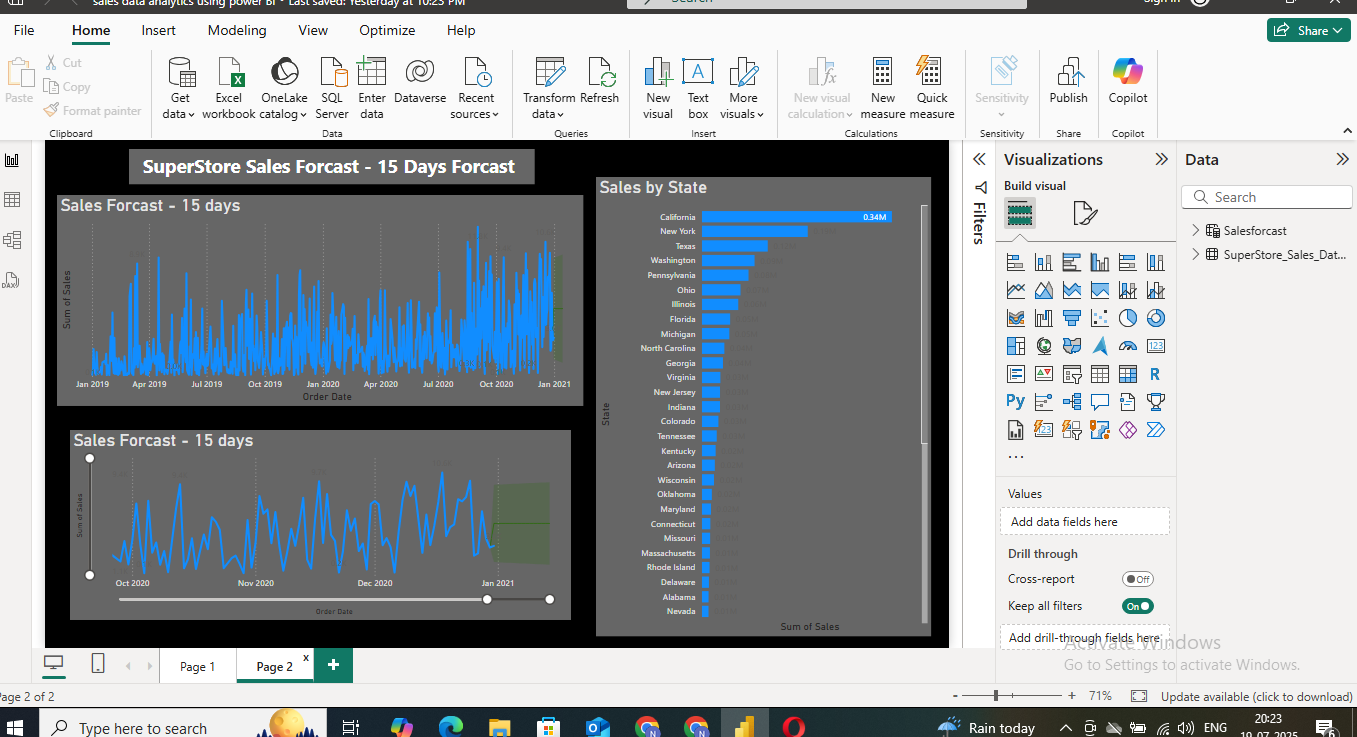

This screenshot's page, from the dashboard's own definition file:
{"tool":"powerbi","page":{"name":"Page 2","canvas":[1280,720],"ordinal":1},"visuals":[{"type":"lineChart","title":"Sales Forcast - 15 days","fields":{"Y":["Sum(SuperStore_Sales_Dataset.Sales)"],"Category":["SuperStore_Sales_Dataset.Order Date"]},"box":[17,78,745.5,299.1],"z":2},{"type":"lineChart","title":"Sales Forcast - 15 days","fields":{"Y":["Sum(SuperStore_Sales_Dataset.Sales)"],"Category":["SuperStore_Sales_Dataset.Order Date"]},"box":[35.4,411,708.7,267.9],"z":3},{"type":"textbox","box":[119.1,12.8,575.4,49.6],"z":4},{"type":"clusteredBarChart","title":" Sales by State","fields":{"Category":["SuperStore_Sales_Dataset.State"],"Y":["Sum(SuperStore_Sales_Dataset.Sales)"]},"box":[780.9,52.4,474.8,650.6],"z":5}]}

Visuals, with their boxes on the page's 1280x720 design canvas (x1, y1, x2, y2). These are canvas units, not pixel positions in the 1357x737 screenshot, which may show the page scaled, cropped or inside an application window:
"Sales Forcast - 15 days" lineChart: 17,78,762,377
"Sales Forcast - 15 days" lineChart: 35,411,744,679
textbox: 119,13,694,62
" Sales by State" clusteredBarChart: 781,52,1256,703
